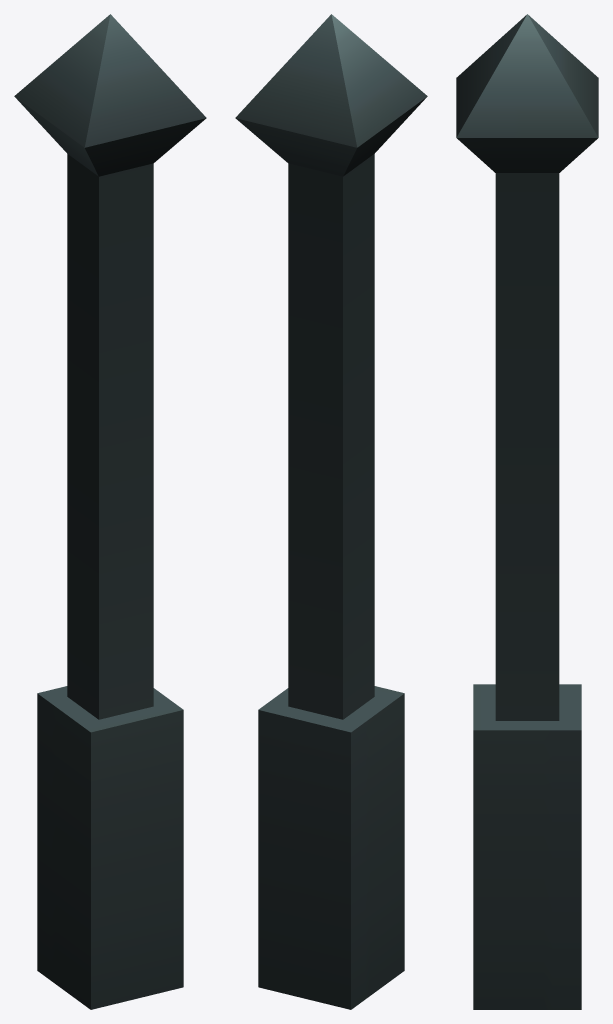
The model's file is Metal_Fence_3B.fbx.
The picture shows the model from 3 angles, left to right: view 1: azimuth 30°, elevation 25°; view 2: azimuth 150°, elevation 25°; view 3: azimuth 270°, elevation 25°; orthographic projection.
Parts seen in each view (by area): view 1: Metal_Fence_3B; view 2: Metal_Fence_3B; view 3: Metal_Fence_3B.
Boxes of the visible parts, x1=… form: Metal_Fence_3B: x1=14, y1=14, x2=206, y2=1009; Metal_Fence_3B: x1=235, y1=14, x2=427, y2=1009; Metal_Fence_3B: x1=456, y1=14, x2=598, y2=1009.
Bounding box in the file's own units: 21.8 × 165 × 21.8.
